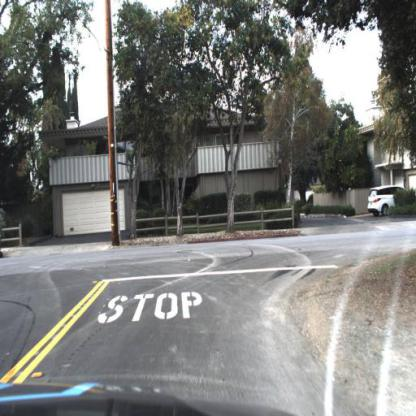car: (366, 185, 413, 217), (368, 187, 410, 216)
